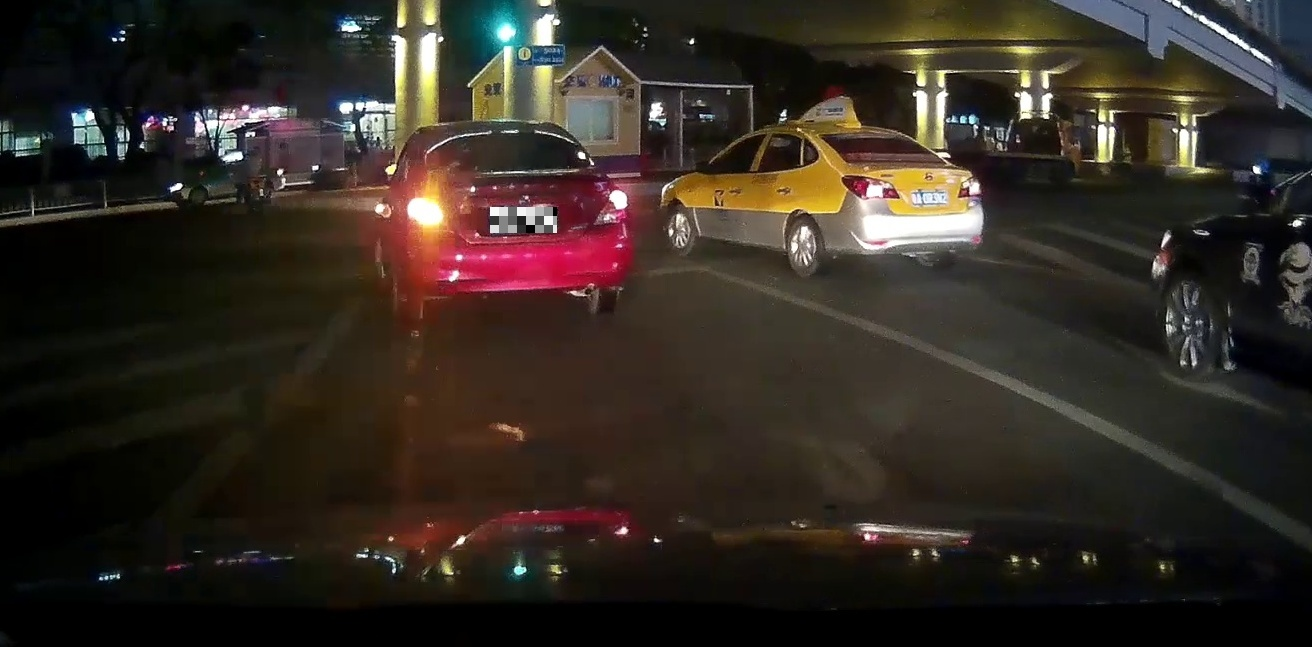L_light: (840, 175, 900, 199), (407, 197, 444, 227)
R_light: (593, 189, 628, 226), (957, 176, 983, 198)
T_light: (491, 133, 520, 137), (888, 158, 911, 161)
night-left: (406, 120, 631, 322)
night-no: (817, 121, 984, 278)
plate_1: (490, 207, 557, 233)
